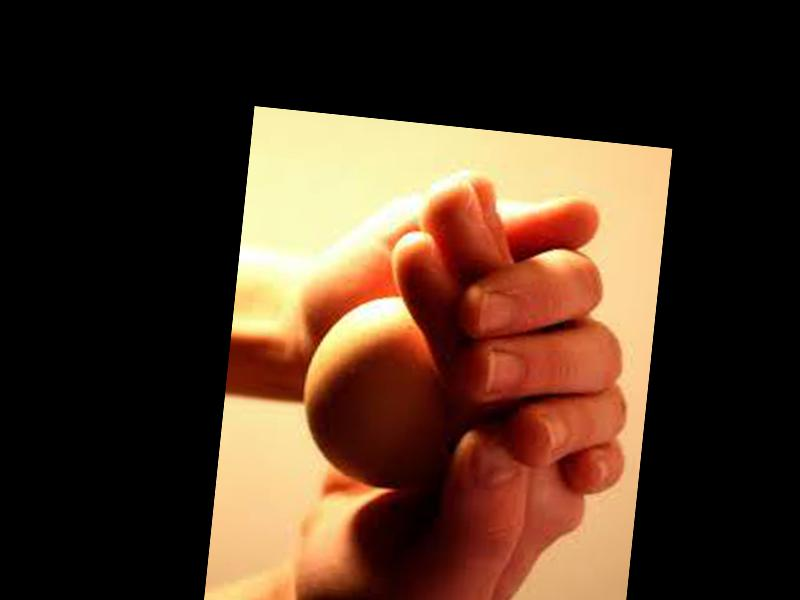Eggs: (295, 288, 460, 496)
